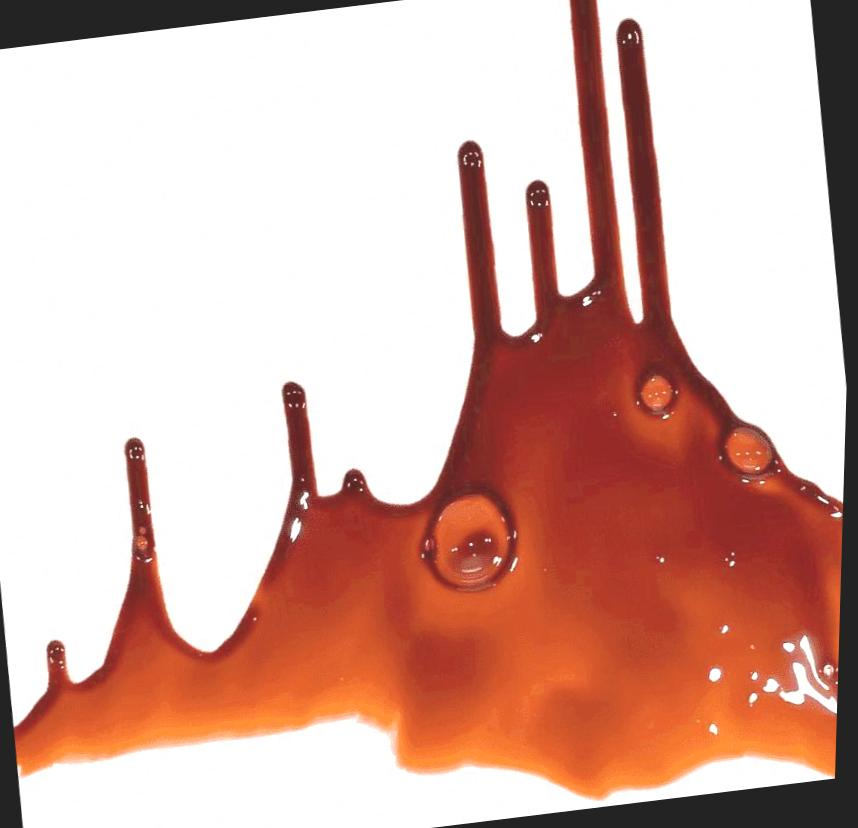Fire: (18, 0, 846, 801)
